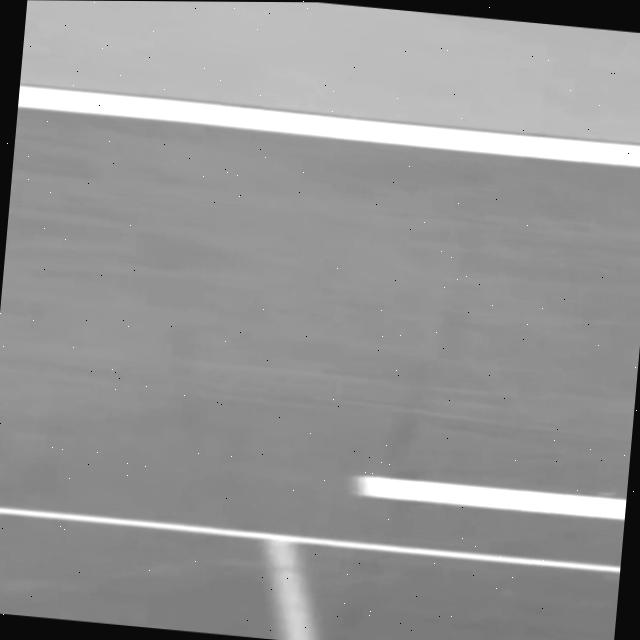center: (355, 475, 626, 519)
right: (18, 85, 640, 167)
